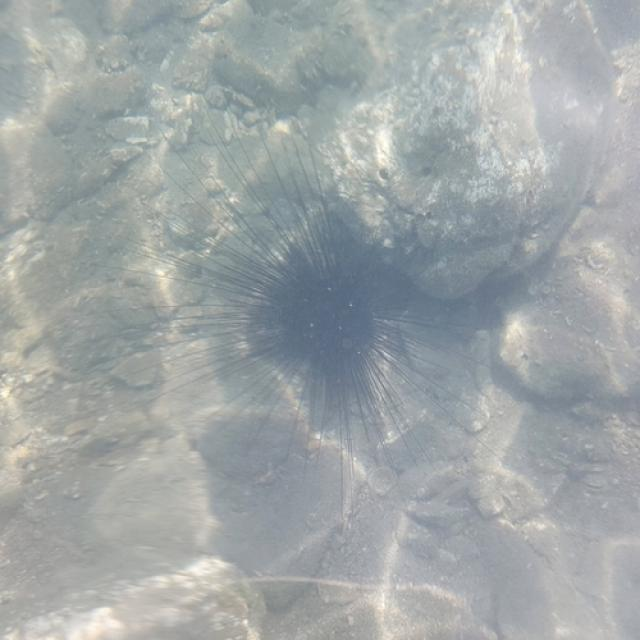Urchin: (94, 105, 486, 517)
